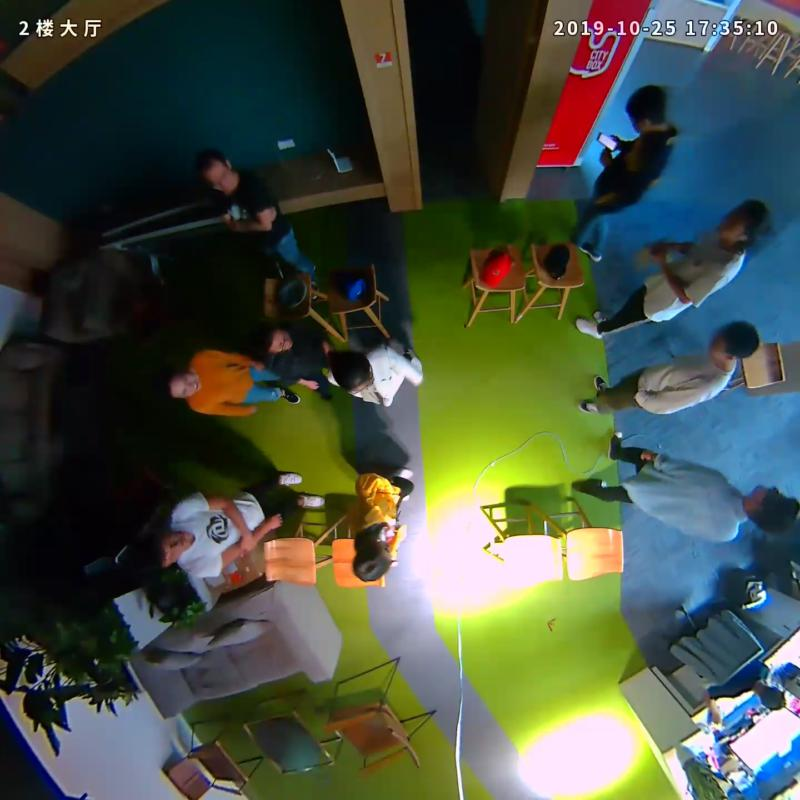head: (746, 483, 800, 538), (717, 199, 771, 250), (131, 530, 194, 573), (625, 83, 670, 135), (709, 319, 760, 363), (352, 535, 396, 584), (196, 149, 237, 193), (334, 352, 373, 392), (157, 366, 200, 401)
